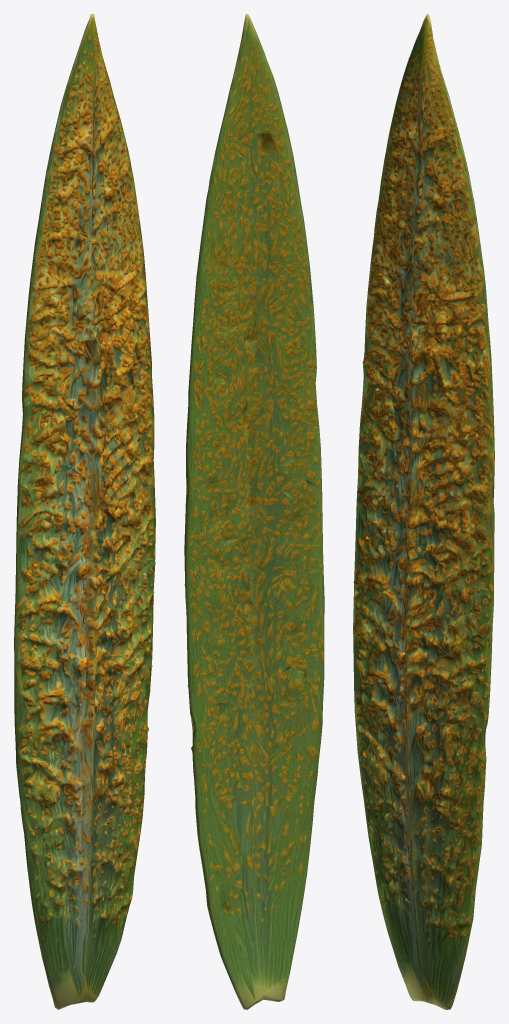
The model's file is wheat_rust.glb.
The picture shows the model from 3 angles, left to right: view 1: azimuth 30°, elevation 25°; view 2: azimuth 210°, elevation 25°; view 3: azimuth 330°, elevation 25°; orthographic projection.
Parts seen in each view (by area): view 1: wheat_rust; view 2: wheat_rust; view 3: wheat_rust.
Part boxes in pixels (x1,y1,x2,y2): wheat_rust: (14, 14, 155, 1009); wheat_rust: (184, 14, 324, 1009); wheat_rust: (353, 14, 494, 1009).
Bounding box in the file's own units: 0.1482 × 0.9997 × 0.0453.
Materials: 1 (1 with a texture image).
